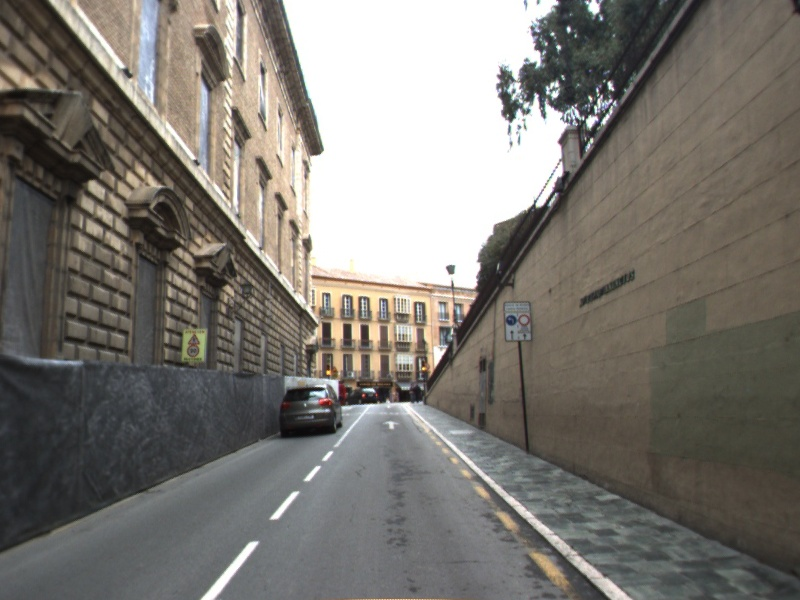STRAIGHT: (380, 418, 401, 431)
